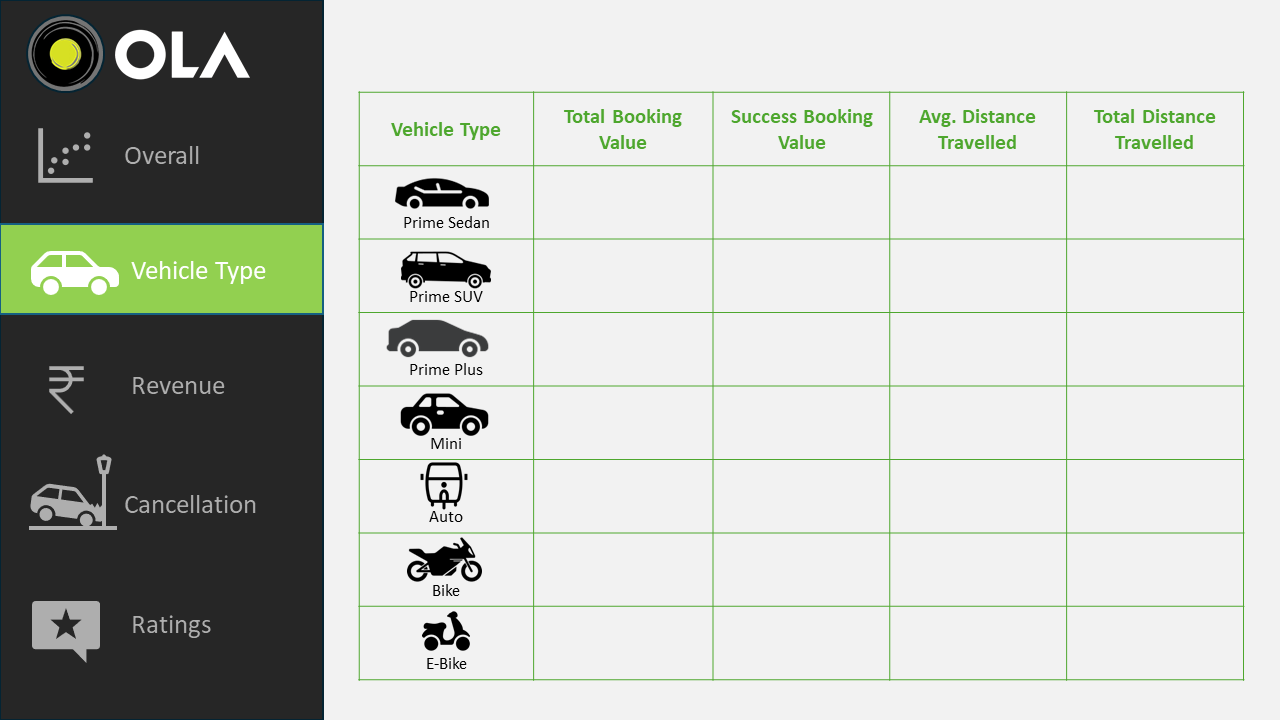

What the dashboard file says about the page in this screenshot:
{"tool":"powerbi","page":{"name":"Vehicle Type","canvas":[1280,720],"ordinal":1},"visuals":[{"type":"actionButton","box":[0,335.1,327.1,92.7],"z":0},{"type":"actionButton","box":[0,108.6,327.1,92.7],"z":1000},{"type":"actionButton","box":[0,455.6,327.1,92.7],"z":2000},{"type":"actionButton","box":[0,578.8,327.1,92.7],"z":3000},{"type":"cardVisual","title":"Total Bookings","fields":{"Data":["Sum(July.Booking_Value)"]},"box":[718.2,168.2,169.7,63.6],"z":4000},{"type":"cardVisual","title":"Total Bookings","fields":{"Data":["Sum(July.Booking_Value)"]},"box":[537.9,168.2,169.7,63.6],"z":5000},{"type":"cardVisual","title":"Total Bookings","fields":{"Data":["Sum(July.Booking_Value)"]},"box":[537.9,242.4,169.7,63.6],"z":6000},{"type":"cardVisual","title":"Total Bookings","fields":{"Data":["Sum(July.Booking_Value)"]},"box":[716.7,242.4,169.7,63.6],"z":7000},{"type":"cardVisual","title":"Total Bookings","fields":{"Data":["Avg(July.Ride_Distance)"]},"box":[892.4,168.2,169.7,63.6],"z":8000},{"type":"cardVisual","title":"Total Bookings","fields":{"Data":["Avg(July.Ride_Distance)"]},"box":[892.4,242.4,169.7,63.6],"z":9000},{"type":"cardVisual","title":"Total Bookings","fields":{"Data":["Sum(July.Ride_Distance)"]},"box":[1069.7,166.7,169.7,63.6],"z":10000},{"type":"cardVisual","title":"Total Bookings","fields":{"Data":["Sum(July.Ride_Distance)"]},"box":[1069.7,242.4,169.7,63.6],"z":11000},{"type":"cardVisual","title":"Total Bookings","fields":{"Data":["Sum(July.Booking_Value)"]},"box":[539.4,315.2,169.7,63.6],"z":12000},{"type":"cardVisual","title":"Total Bookings","fields":{"Data":["Sum(July.Booking_Value)"]},"box":[537.9,389.4,169.7,63.6],"z":13000},{"type":"cardVisual","title":"Total Bookings","fields":{"Data":["Sum(July.Booking_Value)"]},"box":[537.9,462.1,169.7,63.6],"z":14000},{"type":"cardVisual","title":"Total Bookings","fields":{"Data":["Sum(July.Booking_Value)"]},"box":[537.9,534.8,169.7,63.6],"z":15000},{"type":"cardVisual","title":"Total Bookings","fields":{"Data":["Sum(July.Booking_Value)"]},"box":[537.9,607.6,169.7,63.6],"z":16000},{"type":"cardVisual","title":"Total Bookings","fields":{"Data":["Sum(July.Booking_Value)"]},"box":[718.2,307.6,169.7,63.6],"z":17000},{"type":"cardVisual","title":"Total Bookings","fields":{"Data":["Avg(July.Ride_Distance)"]},"box":[892.4,315.2,169.7,63.6],"z":18000},{"type":"cardVisual","title":"Total Bookings","fields":{"Data":["Sum(July.Ride_Distance)"]},"box":[1069.7,313.6,169.7,63.6],"z":19000},{"type":"cardVisual","title":"Total Bookings","fields":{"Data":["Sum(July.Booking_Value)"]},"box":[718.2,389.4,169.7,63.6],"z":20000},{"type":"cardVisual","title":"Total Bookings","fields":{"Data":["Avg(July.Ride_Distance)"]},"box":[892.4,387.9,169.7,63.6],"z":21000},{"type":"cardVisual","title":"Total Bookings","fields":{"Data":["Sum(July.Ride_Distance)"]},"box":[1069.7,387.9,169.7,63.6],"z":22000},{"type":"cardVisual","title":"Total Bookings","fields":{"Data":["Sum(July.Booking_Value)"]},"box":[718.2,462.1,169.7,63.6],"z":23000},{"type":"cardVisual","title":"Total Bookings","fields":{"Data":["Avg(July.Ride_Distance)"]},"box":[892.4,462.1,169.7,63.6],"z":24000},{"type":"cardVisual","title":"Total Bookings","fields":{"Data":["Sum(July.Ride_Distance)"]},"box":[1068.2,462.1,169.7,63.6],"z":25000},{"type":"cardVisual","title":"Total Bookings","fields":{"Data":["Sum(July.Booking_Value)"]},"box":[718.2,533.3,169.7,63.6],"z":26000},{"type":"cardVisual","title":"Total Bookings","fields":{"Data":["Avg(July.Ride_Distance)"]},"box":[893.9,534.8,169.7,63.6],"z":27000},{"type":"cardVisual","title":"Total Bookings","fields":{"Data":["Sum(July.Ride_Distance)"]},"box":[1068.2,533.3,169.7,63.6],"z":28000},{"type":"cardVisual","title":"Total Bookings","fields":{"Data":["Sum(July.Booking_Value)"]},"box":[718.2,607.6,169.7,63.6],"z":29000},{"type":"cardVisual","title":"Total Bookings","fields":{"Data":["Avg(July.Ride_Distance)"]},"box":[898.5,607.6,169.7,63.6],"z":30000},{"type":"cardVisual","title":"Total Bookings","fields":{"Data":["Sum(July.Ride_Distance)"]},"box":[1068.2,607.6,169.7,63.6],"z":31000},{"type":"slicer","title":"DATE","fields":{"Values":["July.Date"]},"box":[1019.7,13.6,221.2,59.1],"z":32000}]}

Visuals, with their boxes on the page's 1280x720 design canvas (x1, y1, x2, y2). These are canvas units, not pixel positions in the 1280x720 screenshot, which may show the page scaled, cropped or inside an application window:
actionButton: [0,335,327,428]
actionButton: [0,109,327,201]
actionButton: [0,456,327,548]
actionButton: [0,579,327,672]
"Total Bookings" cardVisual: [718,168,888,232]
"Total Bookings" cardVisual: [538,168,708,232]
"Total Bookings" cardVisual: [538,242,708,306]
"Total Bookings" cardVisual: [717,242,886,306]
"Total Bookings" cardVisual: [892,168,1062,232]
"Total Bookings" cardVisual: [892,242,1062,306]
"Total Bookings" cardVisual: [1070,167,1239,230]
"Total Bookings" cardVisual: [1070,242,1239,306]
"Total Bookings" cardVisual: [539,315,709,379]
"Total Bookings" cardVisual: [538,389,708,453]
"Total Bookings" cardVisual: [538,462,708,526]
"Total Bookings" cardVisual: [538,535,708,598]
"Total Bookings" cardVisual: [538,608,708,671]
"Total Bookings" cardVisual: [718,308,888,371]
"Total Bookings" cardVisual: [892,315,1062,379]
"Total Bookings" cardVisual: [1070,314,1239,377]
"Total Bookings" cardVisual: [718,389,888,453]
"Total Bookings" cardVisual: [892,388,1062,452]
"Total Bookings" cardVisual: [1070,388,1239,452]
"Total Bookings" cardVisual: [718,462,888,526]
"Total Bookings" cardVisual: [892,462,1062,526]
"Total Bookings" cardVisual: [1068,462,1238,526]
"Total Bookings" cardVisual: [718,533,888,597]
"Total Bookings" cardVisual: [894,535,1064,598]
"Total Bookings" cardVisual: [1068,533,1238,597]
"Total Bookings" cardVisual: [718,608,888,671]
"Total Bookings" cardVisual: [898,608,1068,671]
"Total Bookings" cardVisual: [1068,608,1238,671]
"DATE" slicer: [1020,14,1241,73]
